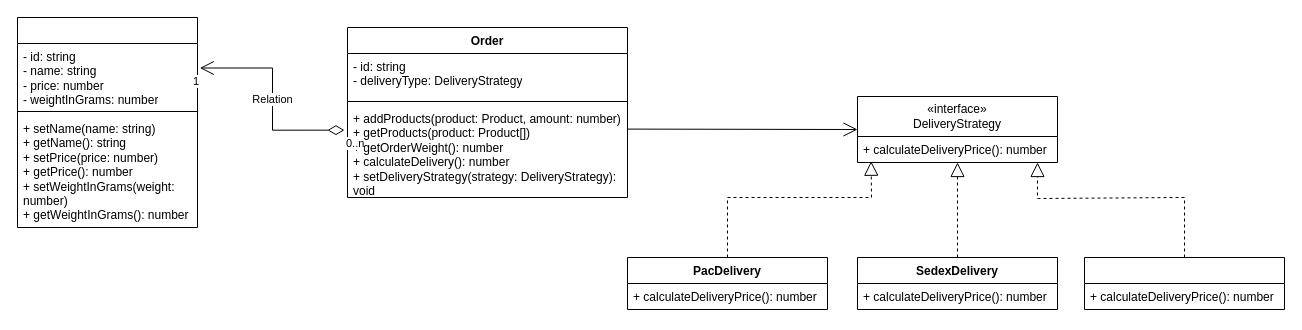
The diagram is 1302 pixels wide and 330 high, and some of its shapes have lost their labels. The shapes that lost their labels are listed below. From the top down, each one's box as (x1, y1, x2, y2) in pixels, then its label:
(16, 16, 198, 228): Product
(1084, 256, 1284, 310): LocalPickupDelivery
